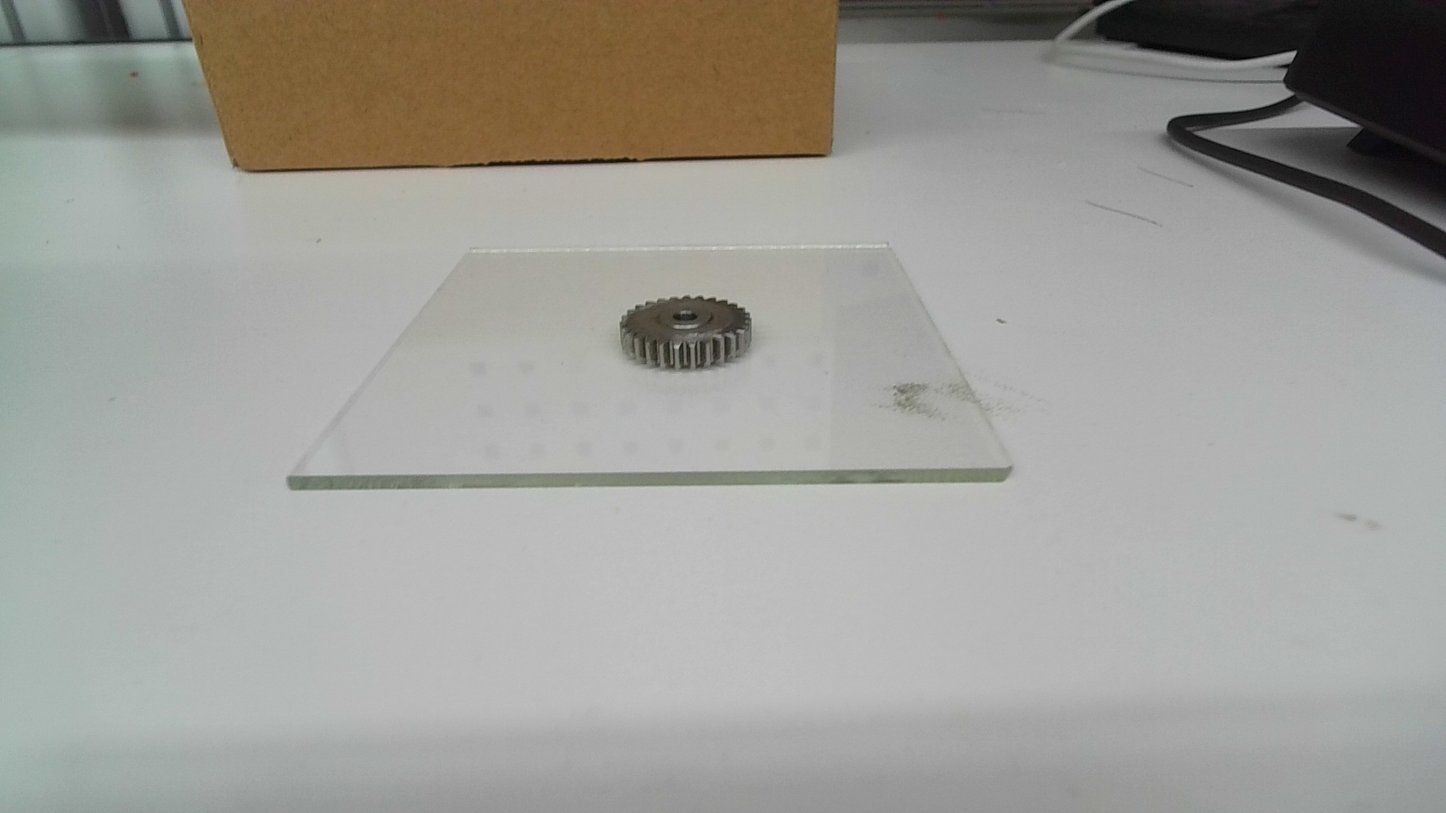gear: (614, 294, 756, 372)
